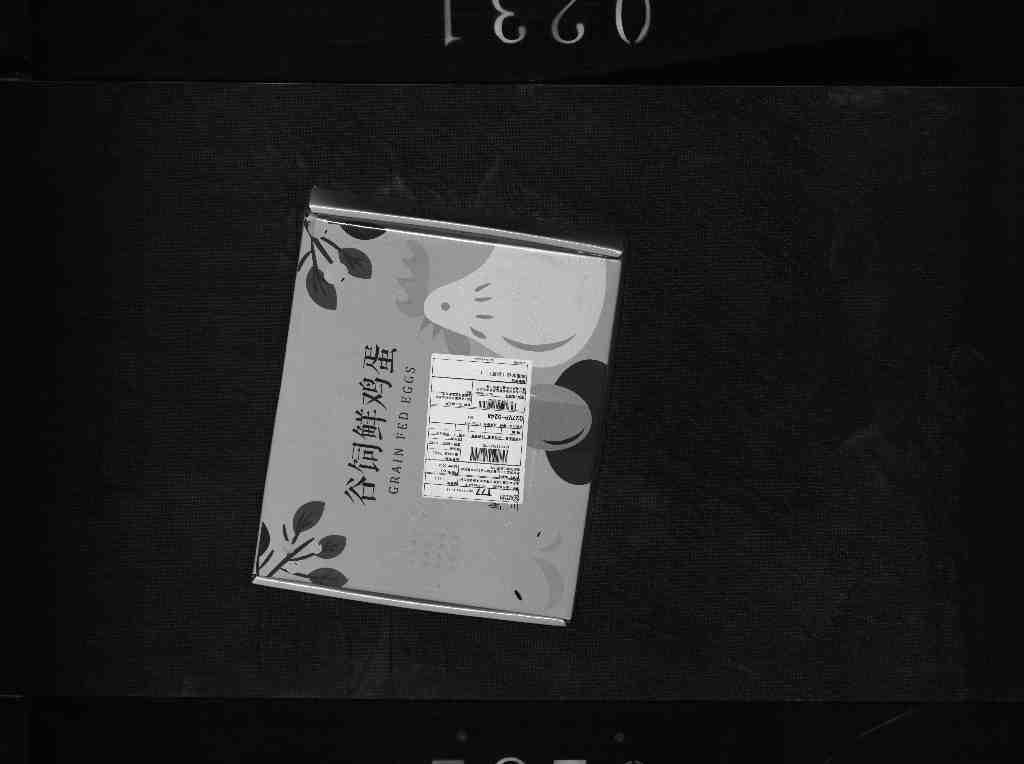box: (207, 173, 643, 643)
